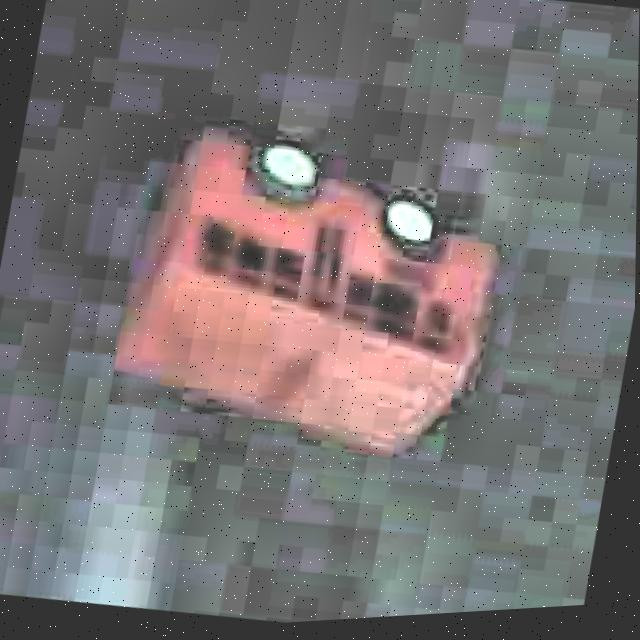bus: (96, 94, 526, 487)
